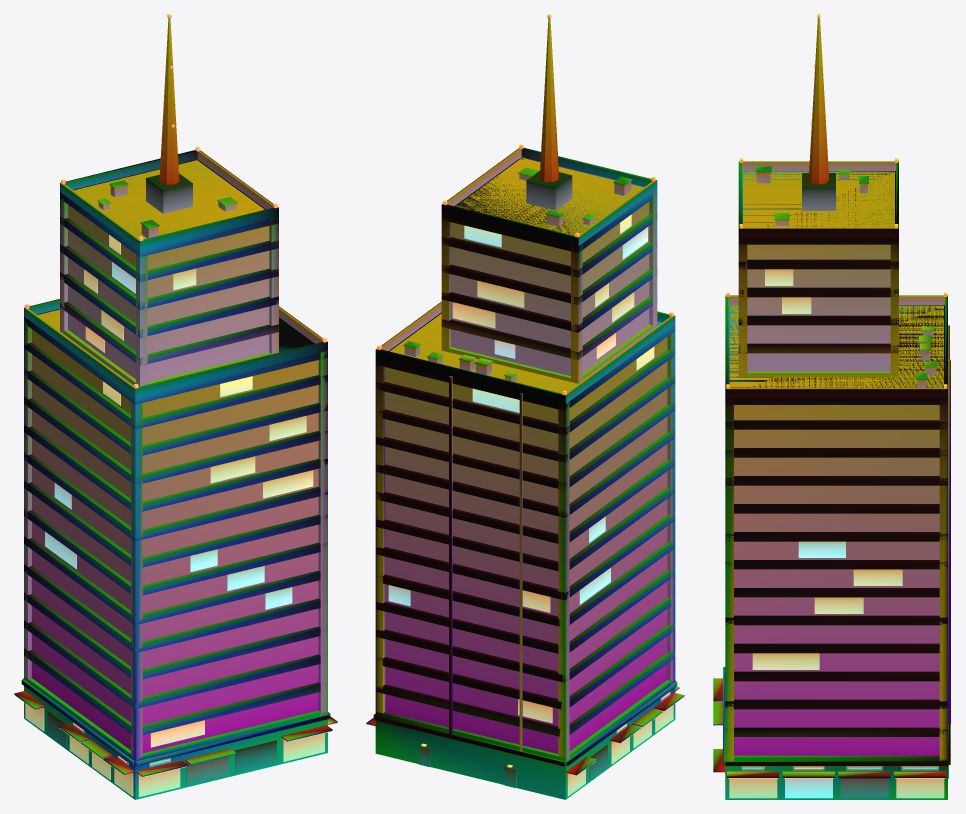
Rendered from Tower_Mast_V4.fbx.
3 renders of one model, left to right at view 1: azimuth 30°, elevation 25°; view 2: azimuth 150°, elevation 25°; view 3: azimuth 270°, elevation 25°, orthographic.
Parts seen in each view (by area): view 1: Tower_Mast_V4_LOD0; view 2: Tower_Mast_V4_LOD0; view 3: Tower_Mast_V4_LOD0.
Boxes of the visible parts, x1=… form: Tower_Mast_V4_LOD0: x1=14, y1=14, x2=337, y2=799; Tower_Mast_V4_LOD0: x1=366, y1=14, x2=684, y2=799; Tower_Mast_V4_LOD0: x1=713, y1=14, x2=951, y2=799.
Size of what is drawn, in the model's own units: 28.8 by 94.15 by 27.8.
